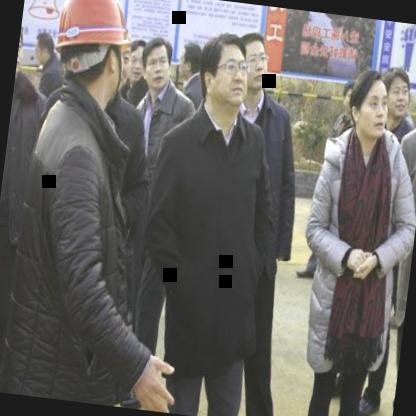head: (198, 31, 254, 113), (346, 65, 394, 144), (235, 31, 274, 102), (376, 64, 414, 127), (137, 30, 174, 93), (174, 37, 204, 86), (29, 26, 58, 75), (126, 34, 148, 84)
helmet: (48, 0, 134, 103)
